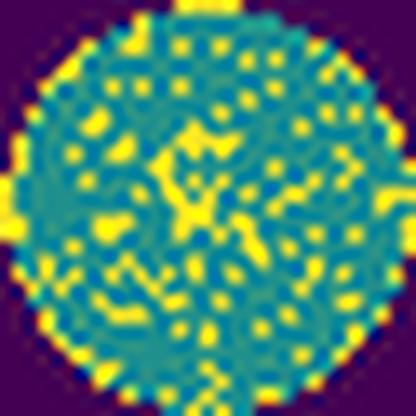Center: (149, 120, 271, 270)
